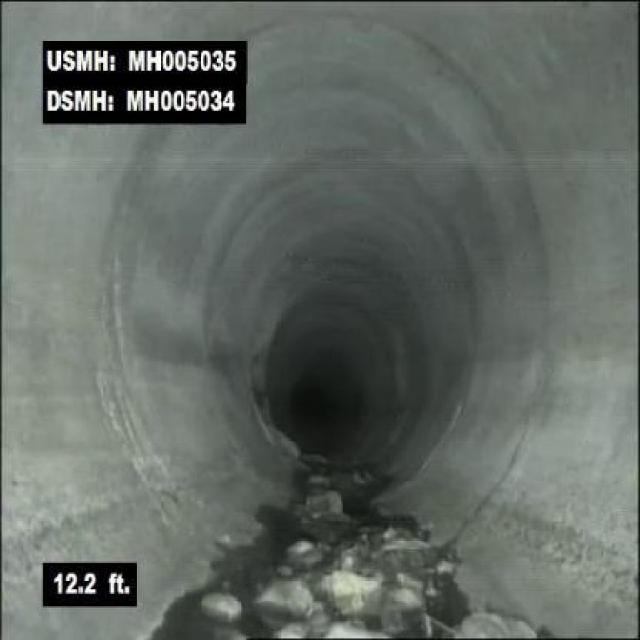Debris: (257, 524, 474, 636)
